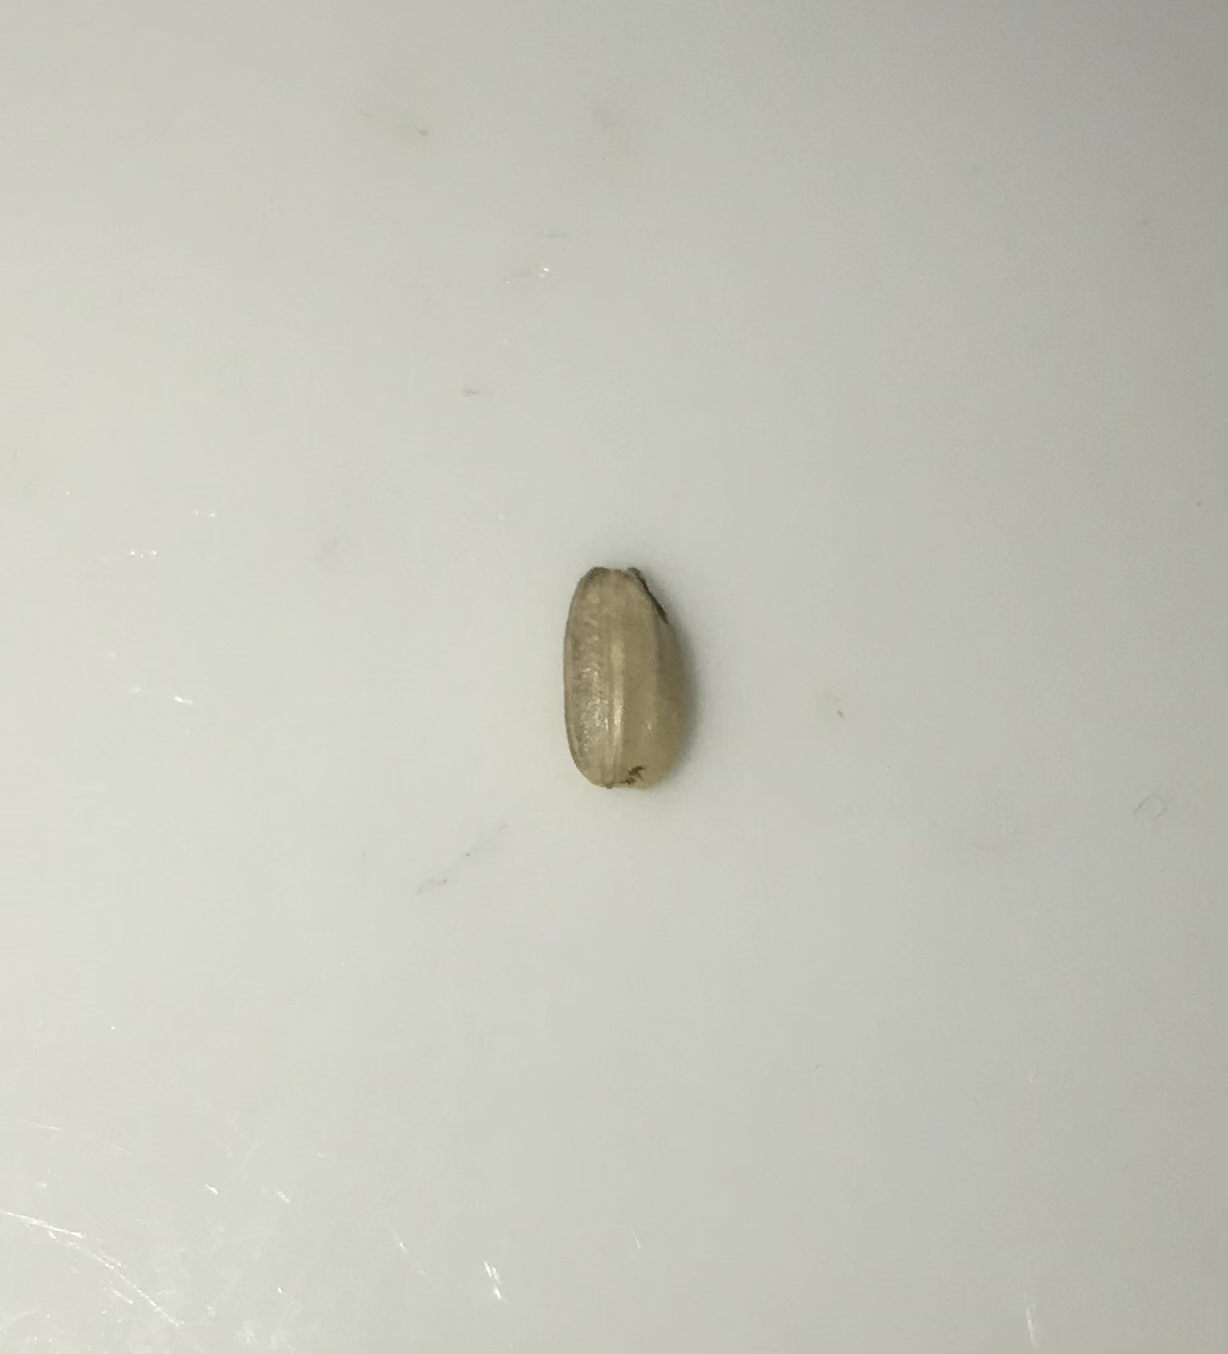Gao Lut Bac: (546, 552, 708, 800)
